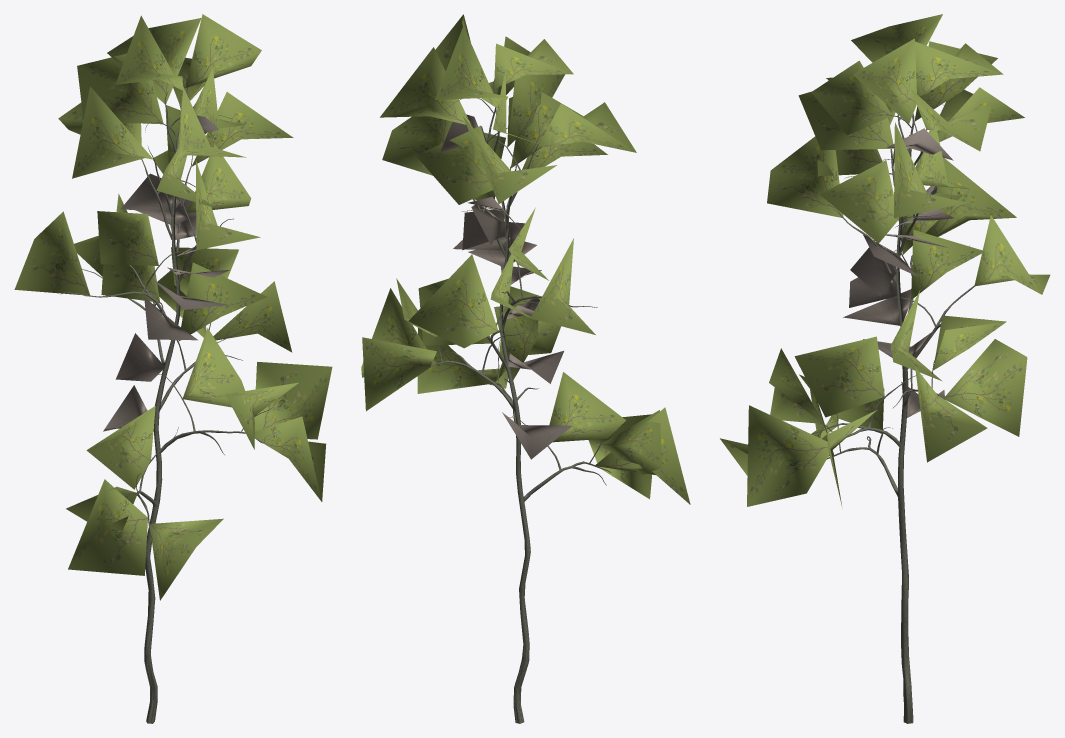
The model's file is sm_TreeSmall_01_03.fbx.
The picture shows the model from 3 angles, left to right: view 1: azimuth 30°, elevation 25°; view 2: azimuth 150°, elevation 25°; view 3: azimuth 270°, elevation 25°; orthographic projection. The views are drawn at different scales.
Parts seen in each view (by area): view 1: sm_TreeSmall_01_03_LOD0; view 2: sm_TreeSmall_01_03_LOD0; view 3: sm_TreeSmall_01_03_LOD0.
Boxes of the visible parts, x1,y1,x2,y2 form: sm_TreeSmall_01_03_LOD0: (14, 14, 332, 723); sm_TreeSmall_01_03_LOD0: (361, 14, 690, 723); sm_TreeSmall_01_03_LOD0: (720, 14, 1050, 723).
Bounding box in the file's own units: 296 × 297 × 704.
